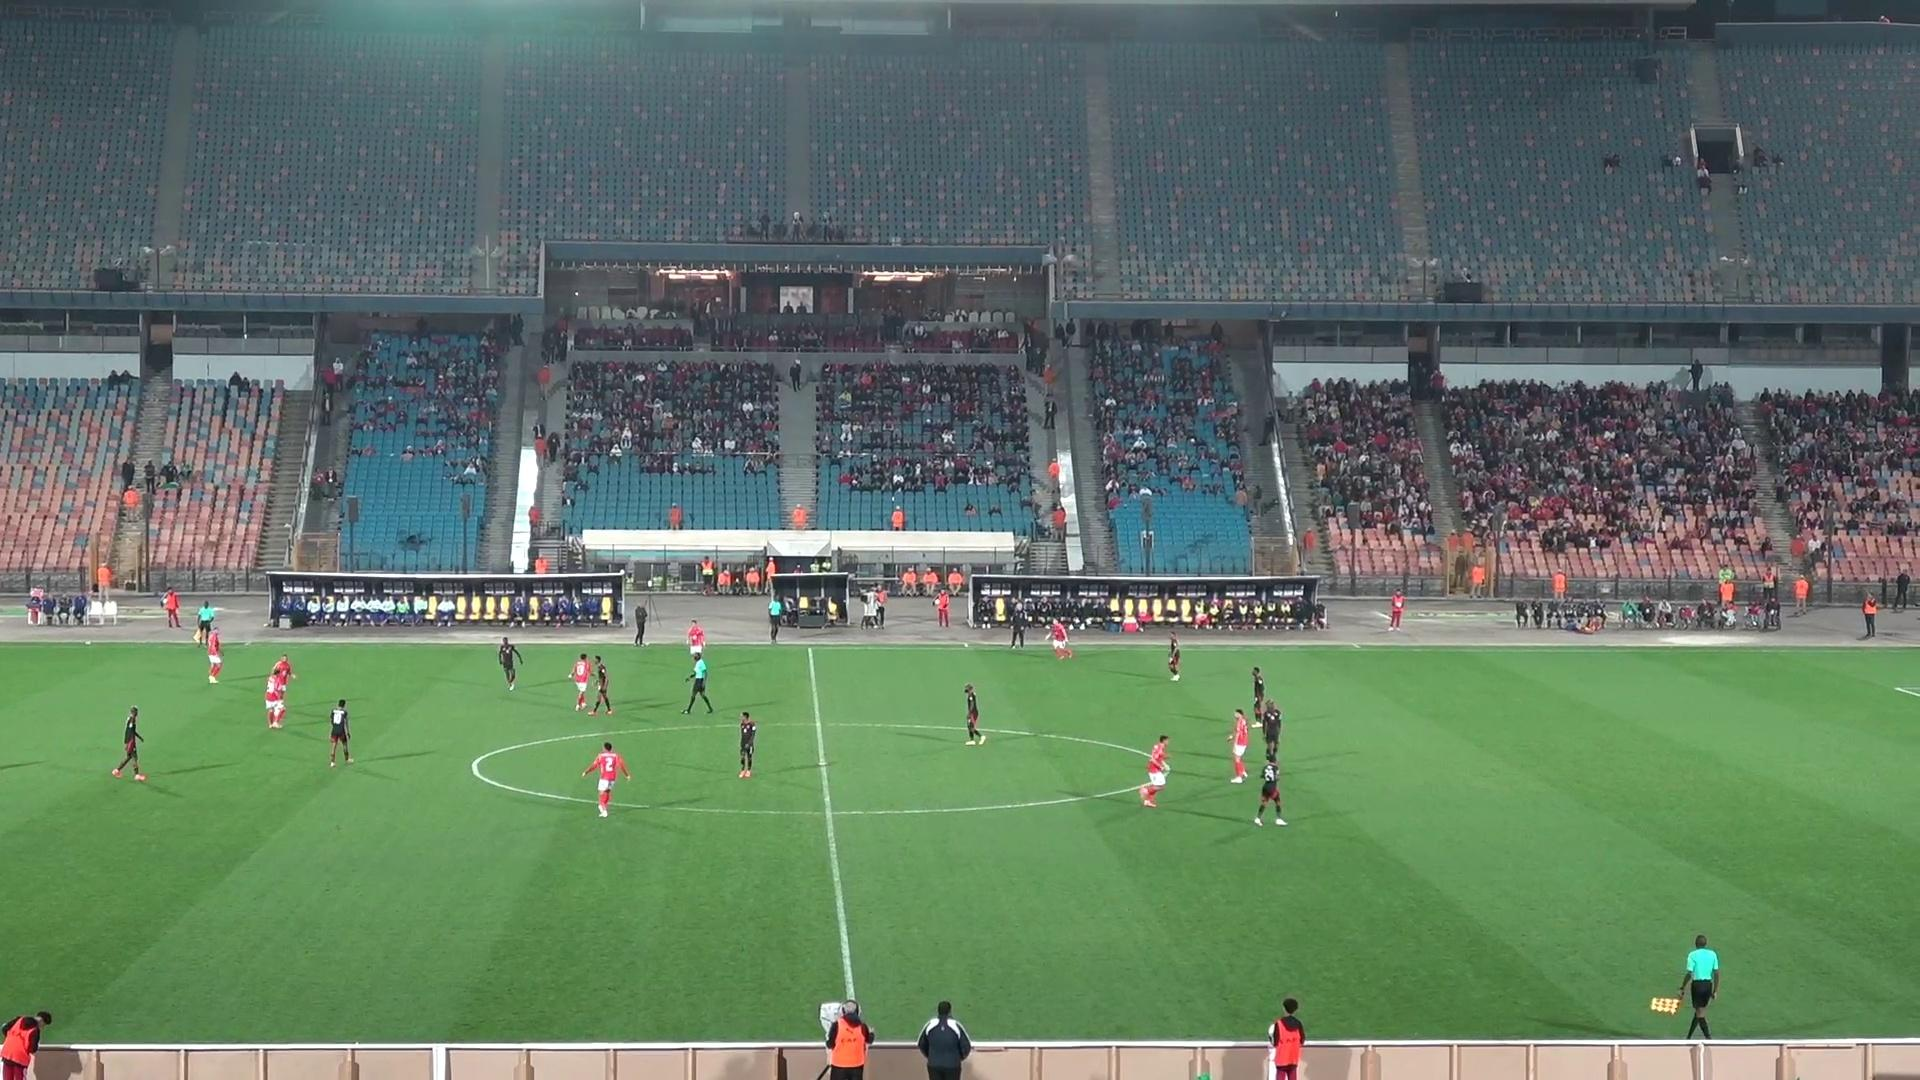Refree: (1683, 934, 1721, 1031), (679, 651, 715, 713), (194, 601, 218, 642), (767, 592, 786, 644)
Team1: (582, 742, 629, 818), (1135, 736, 1168, 807), (1226, 709, 1255, 785), (264, 661, 291, 728), (195, 629, 223, 683), (567, 653, 593, 709), (1046, 618, 1072, 659), (684, 621, 709, 659), (272, 654, 295, 682)
Team2: (111, 705, 148, 781), (1247, 698, 1284, 761), (1254, 760, 1286, 824), (1245, 666, 1279, 724), (328, 698, 353, 767), (496, 636, 524, 690), (737, 709, 758, 778), (963, 683, 986, 744), (588, 655, 611, 713), (1166, 637, 1182, 680)
